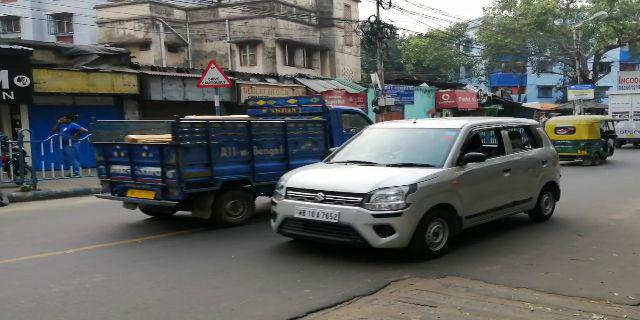Autorickshaw: (548, 119, 616, 157)
Car: (277, 119, 567, 243)
Minitruck: (93, 86, 387, 224)
